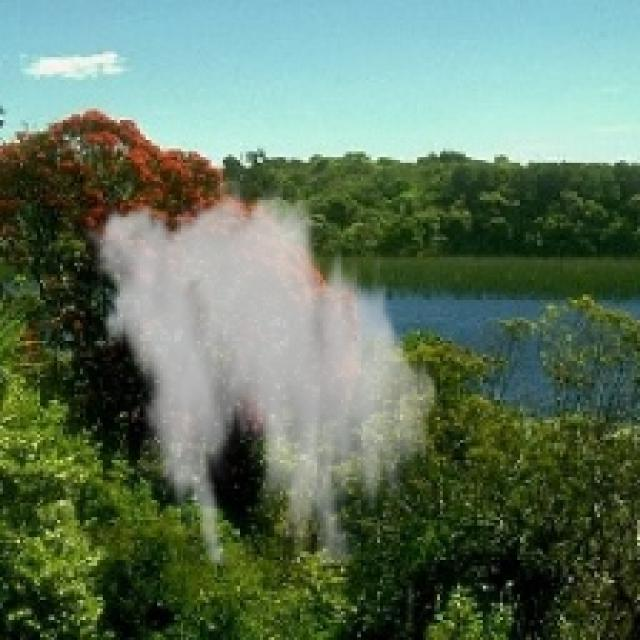smoke: (77, 174, 449, 566)
